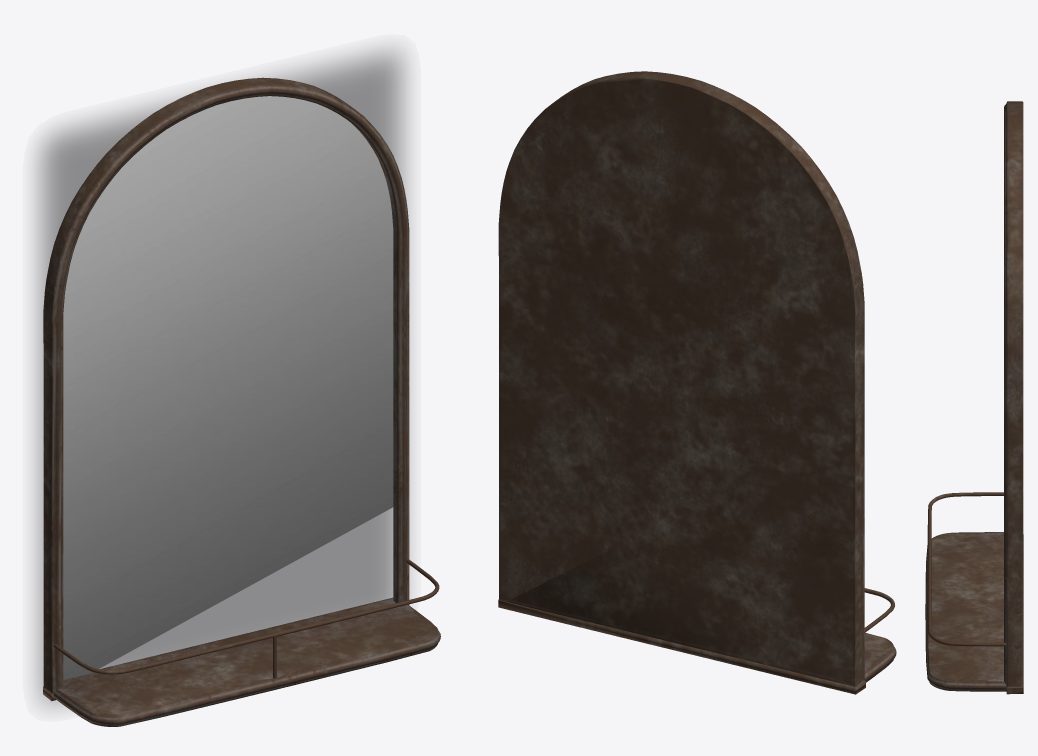
The model's file is abo-b073whkxd4.28e1af5799.ar.glb.
3 renders of one model, left to right at view 1: azimuth 30°, elevation 25°; view 2: azimuth 150°, elevation 25°; view 3: azimuth 270°, elevation 25°, orthographic. The views are drawn at different scales.
Parts seen in each view (by area): view 1: RootNode, object 2; view 2: RootNode; view 3: RootNode.
Boxes of the visible parts, x1,y1,x2,y2 form: RootNode: [43, 77, 440, 726]; object 2: [36, 50, 407, 705]; RootNode: [498, 71, 896, 694]; RootNode: [925, 101, 1023, 694].
Bounding box in the file's own units: 0.5899 × 0.8496 × 0.1374.
2 materials, 2 textured.
